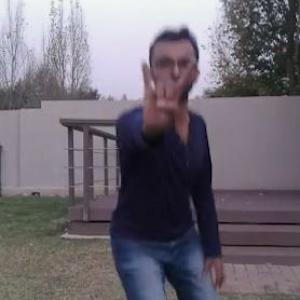takeoff-hand: (130, 52, 198, 127)
